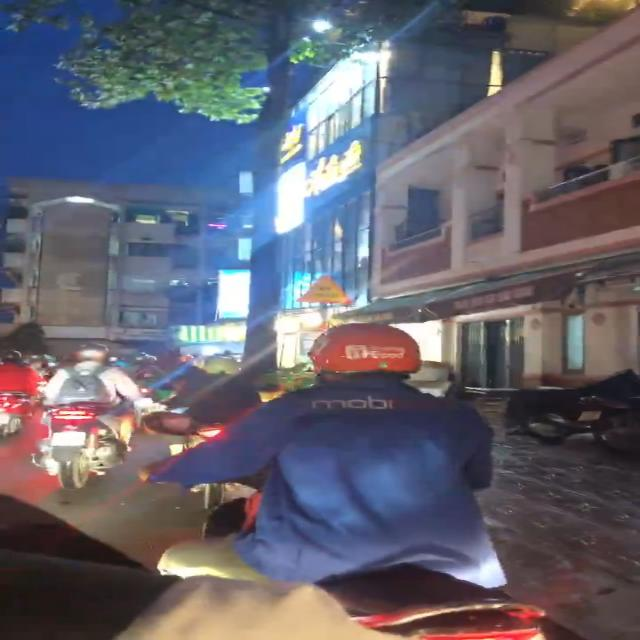Bien bao di cham: (292, 269, 355, 306)
